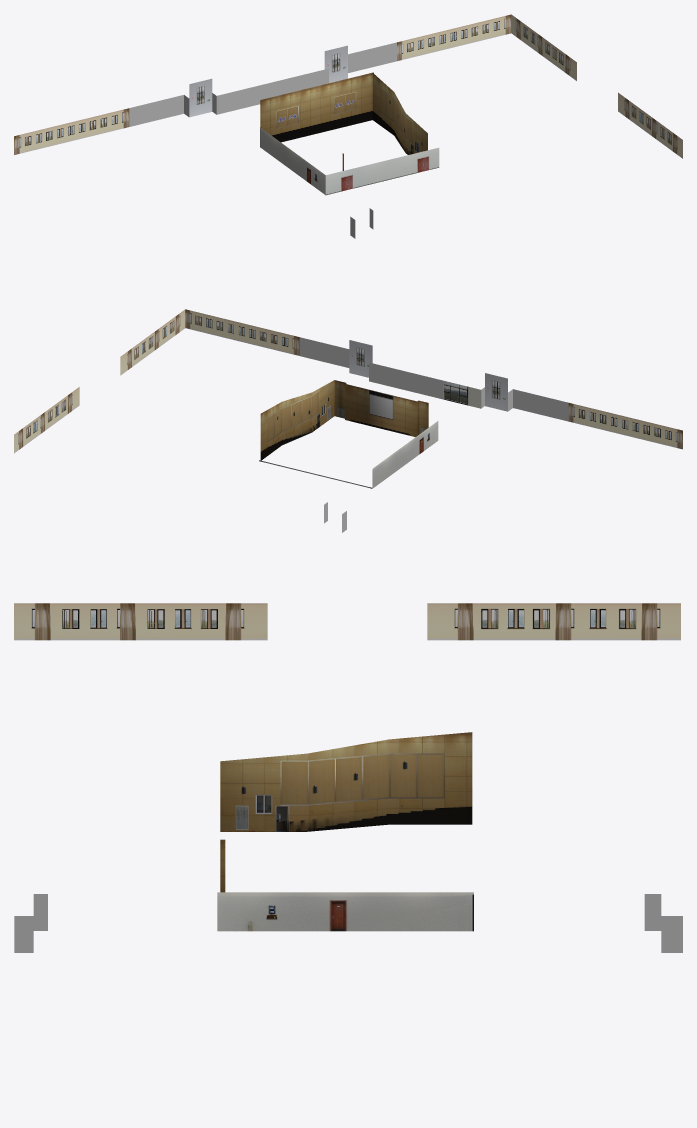
Rendered from 4Fwall.gltf.
The picture shows the model from 3 angles, top to bottom: view 1: azimuth 30°, elevation 25°; view 2: azimuth 150°, elevation 25°; view 3: azimuth 270°, elevation 25°; orthographic projection. The views are drawn at different scales.
Parts seen in each view (by area): view 1: 报告厅, Plane042, Plane036, Plane034, Plane040, Plane032; view 2: 报告厅, Plane042, Plane034, Plane050, Plane022, Plane018, Plane016, Plane017; view 3: 报告厅, Plane042, Plane033.
Part boxes in pixels (x1,y1,x2,y2): 报告厅: (260,72,439,195); Plane042: (14,14,682,158); Plane036: (216,68,328,114); Plane034: (189,45,347,117); Plane040: (129,95,183,126); Plane032: (348,42,396,72); 报告厅: (259,380,438,488); Plane042: (14,309,682,453); Plane034: (349,340,507,411); Plane050: (513,389,568,421); Plane022: (299,337,349,367); Plane018: (369,362,407,390); Plane016: (443,381,481,408); Plane017: (408,372,443,399); 报告厅: (217,732,473,931); Plane042: (14,603,680,640); Plane033: (661,916,682,952).
Size of the model in its own units: 275 by 25.05 by 164.
Materials: 6 (4 with a texture image).
